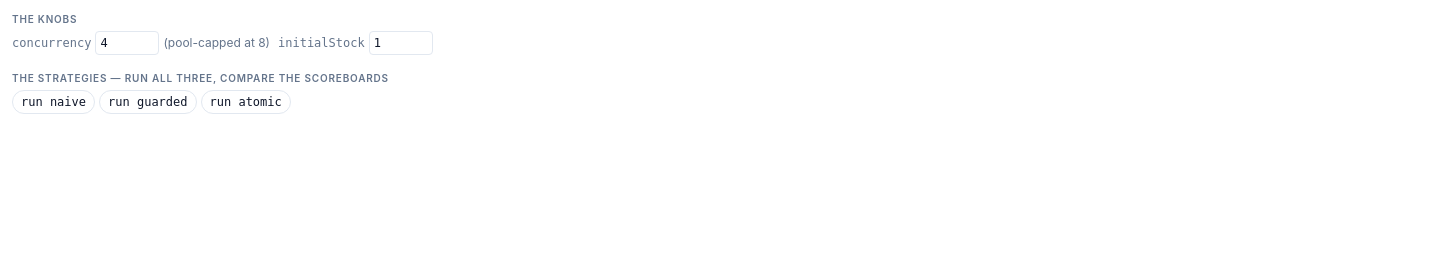
Test case: RaceDemo › renders the error panel when the run is rejected
Click the button with test id "race-run-naive" at (54, 102), box [12,90,95,114]
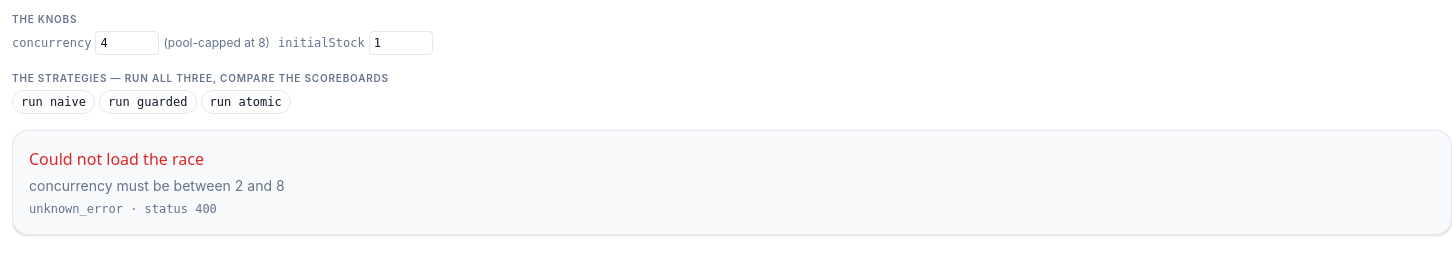
Expected: the text "concurrency must be between 2 and 8" is shown, [29,177,285,194]
